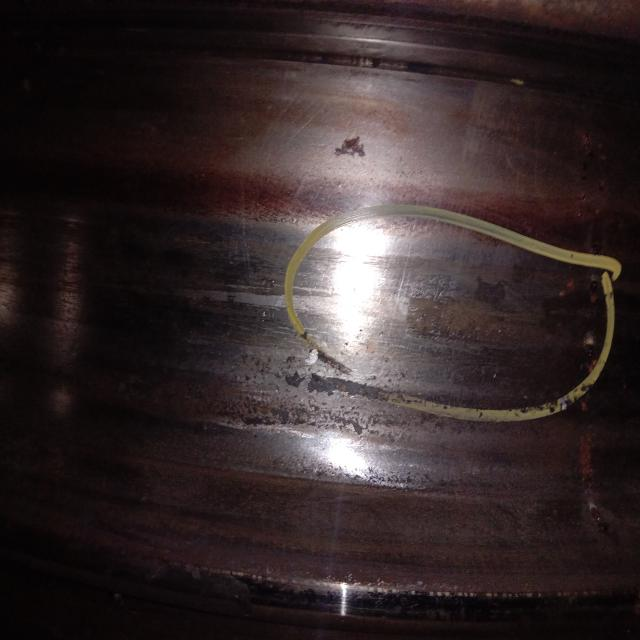Peeling: (391, 262, 543, 363)
